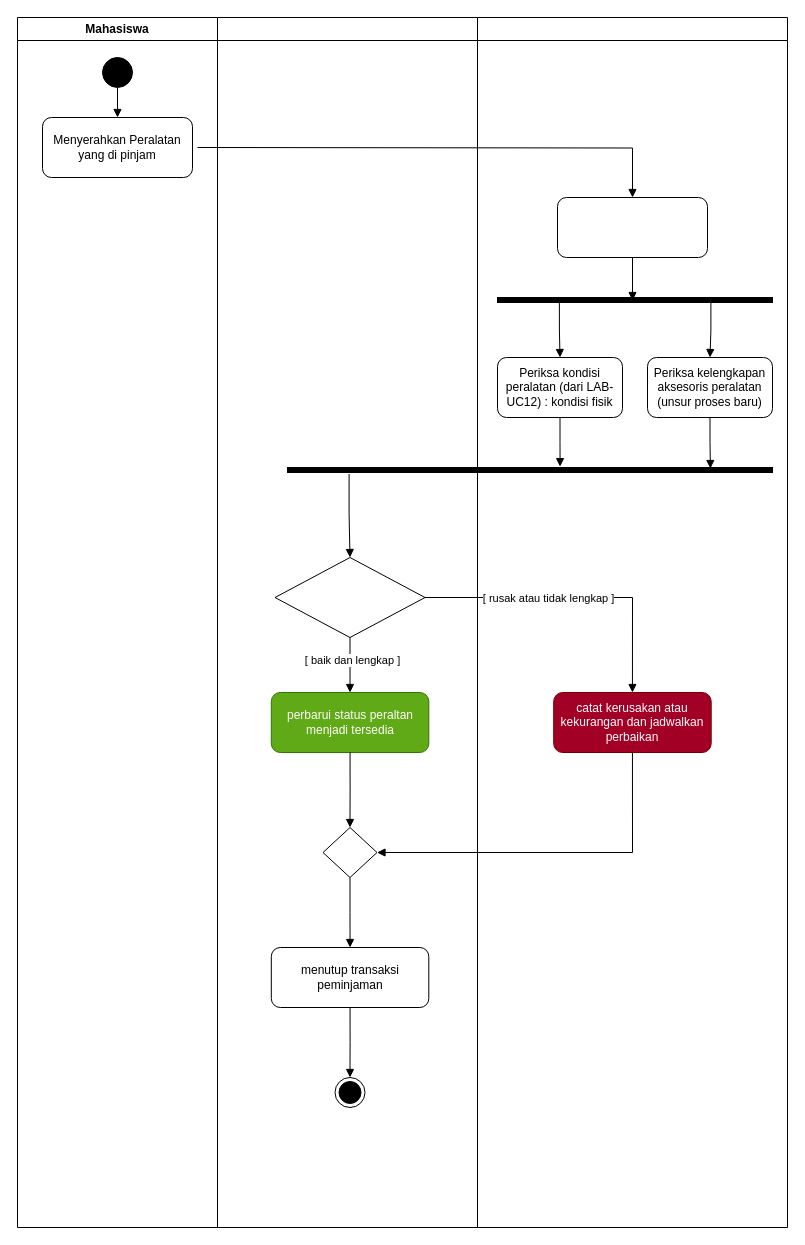
The diagram is 805 pixels wide and 1245 high, and some of its shapes have lost their labels. The shapes that lost their labels are listed below. From the top down, each one's box as (x1, y1, x2, y2) in pixels, then its label:
(556, 196, 708, 258): Catat pengembalian peralatan (LAB-UC11)
(274, 556, 425, 638): kondisi peralatan baik dan lengkap ?
(216, 16, 478, 1228): sistem
(476, 16, 788, 1228): Petugas Laboratorium
